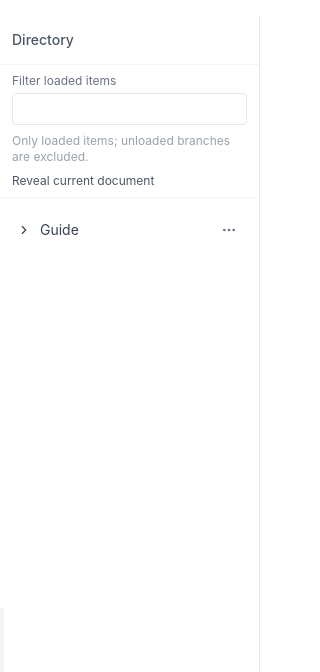
Test: directory tools › filters loaded items with ancestor context, disables reorder, and restores expansion
Type "Same title" into the search field labelled "Filter loaded items" at (130, 109), box [12,93,247,125]
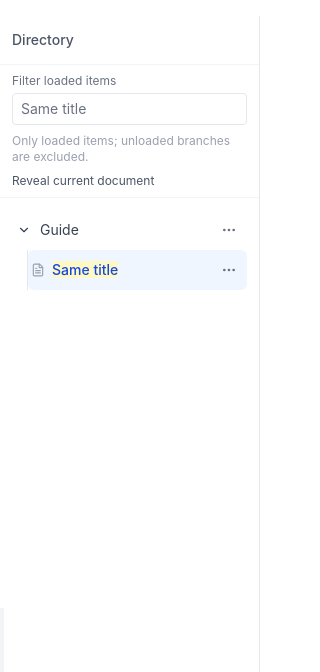
Check: the button with test id "content-node-guide" is shown, box [40,214,211,246]
Check: the text "Same title" is shown, box [52,261,118,278]
Clear the search field labelled "Filter loaded items" at (130, 109), box [12,93,247,125]
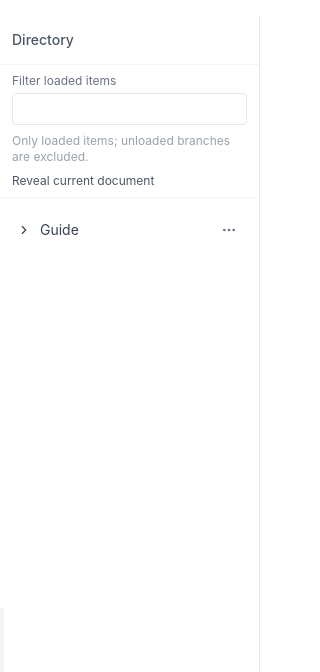
Check: the button with test id "content-node-page-a" is gone
